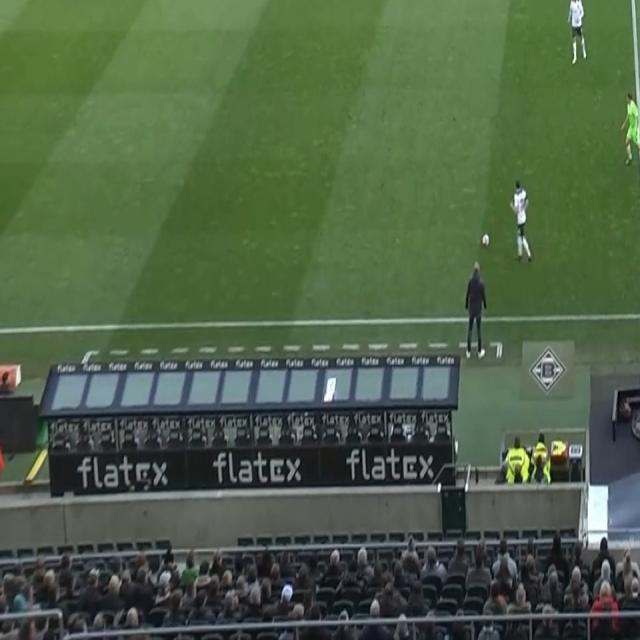ball: (482, 232, 490, 248)
